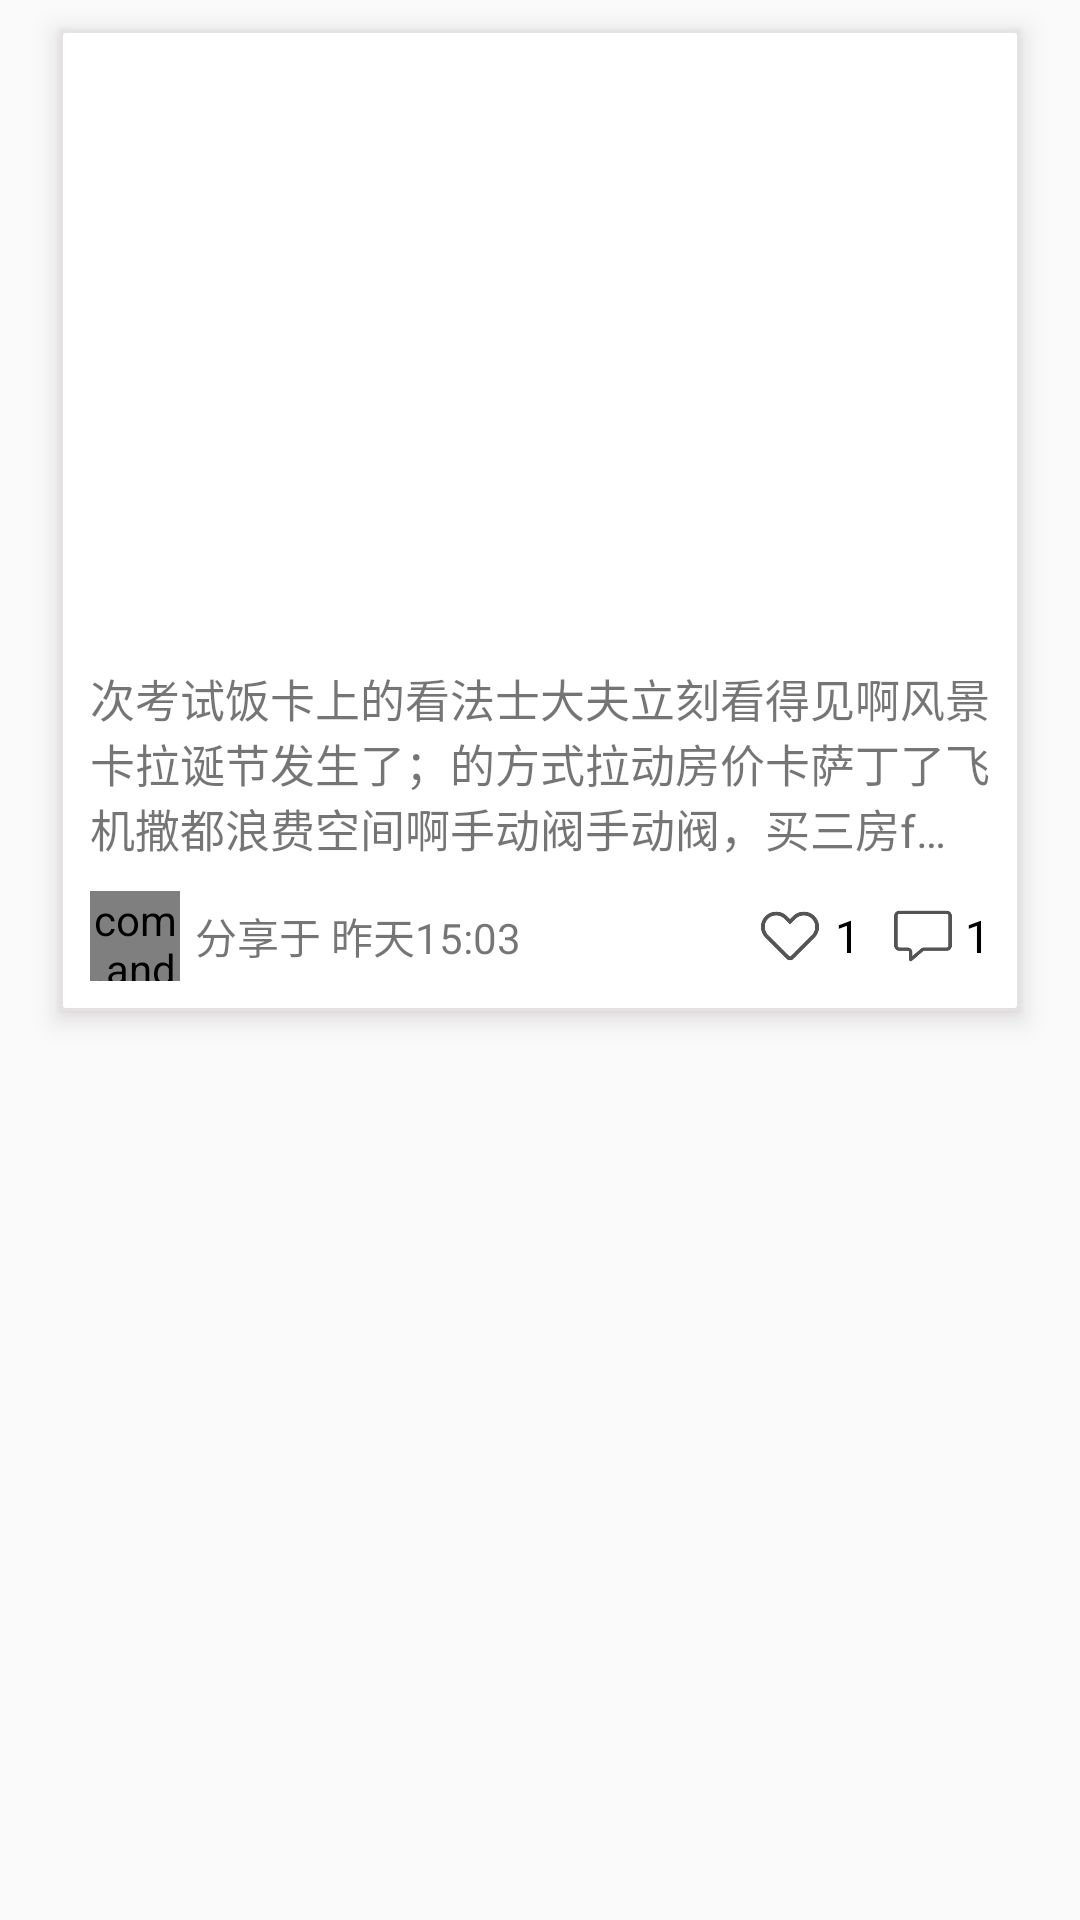

Point at icon controls on the screen. Image size 1080w x 1920h, points as point (x, y).
photo comment: point (923, 935)
photo love: point (790, 935)
